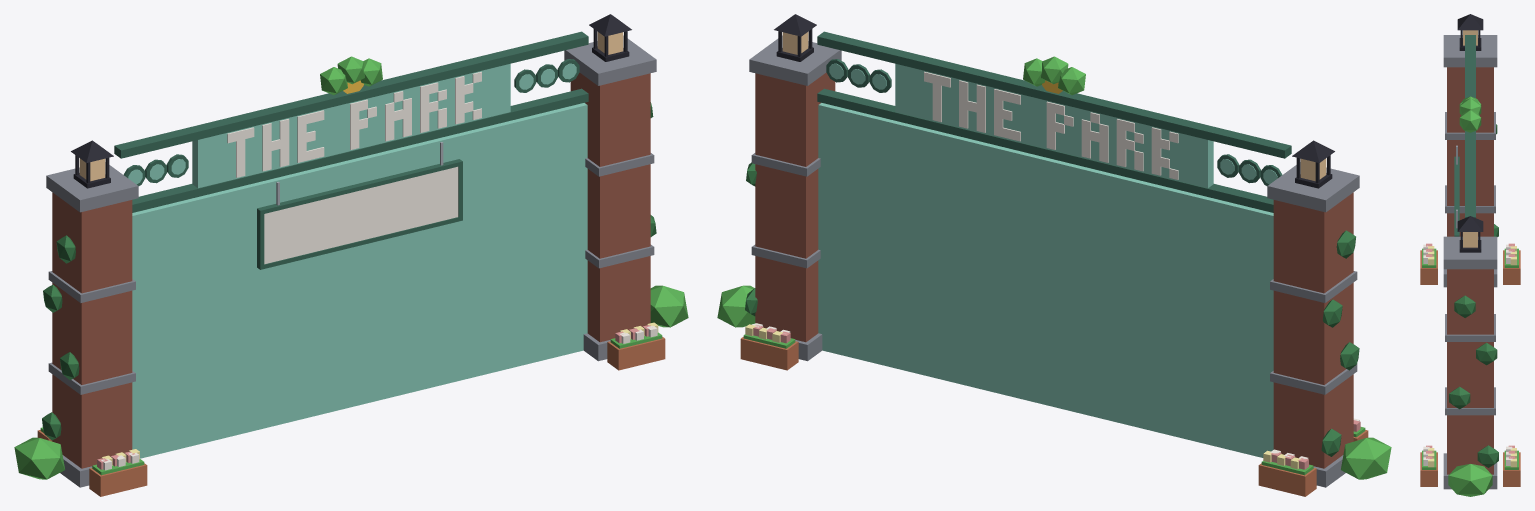
Rendered from CatCafe_Park_Gate.glb.
3 views of the same model, side by side, from view 1: azimuth 30°, elevation 25°; view 2: azimuth 150°, elevation 25°; view 3: azimuth 270°, elevation 25° (orthographic). The views are drawn at different scales.
Parts seen in each view (by area): view 1: CatCafe_Park_Gate_Bars, CatCafe_Park_Gate, CatCafe_Park_Gate_SignBoard, CatCafe_Park_Gate_Flowers, CatCafe_Park_Gate_Lamp_Bulb; view 2: CatCafe_Park_Gate_Bars, CatCafe_Park_Gate, CatCafe_Park_Gate_Flowers, CatCafe_Park_Gate_Lamp_Bulb; view 3: CatCafe_Park_Gate, CatCafe_Park_Gate_Flowers, CatCafe_Park_Gate_Lamp_Bulb.
Part boxes in pixels (x1,y1,x2,y2): CatCafe_Park_Gate_Bars: (132,103,587,458); CatCafe_Park_Gate: (14,14,688,496); CatCafe_Park_Gate_SignBoard: (264,166,458,264); CatCafe_Park_Gate_Flowers: (40,322,662,475); CatCafe_Park_Gate_Lamp_Bulb: (79,32,623,181); CatCafe_Park_Gate_Bars: (818,103,1273,457); CatCafe_Park_Gate: (717,14,1391,496); CatCafe_Park_Gate_Flowers: (743,323,1365,475); CatCafe_Park_Gate_Lamp_Bulb: (782,32,1326,181); CatCafe_Park_Gate: (1420,14,1520,496); CatCafe_Park_Gate_Flowers: (1422,243,1518,469); CatCafe_Park_Gate_Lamp_Bulb: (1463,30,1477,247).
Bounding box in the file's own units: 34.15 × 17.1 × 5.6.
1 material, 1 textured.
